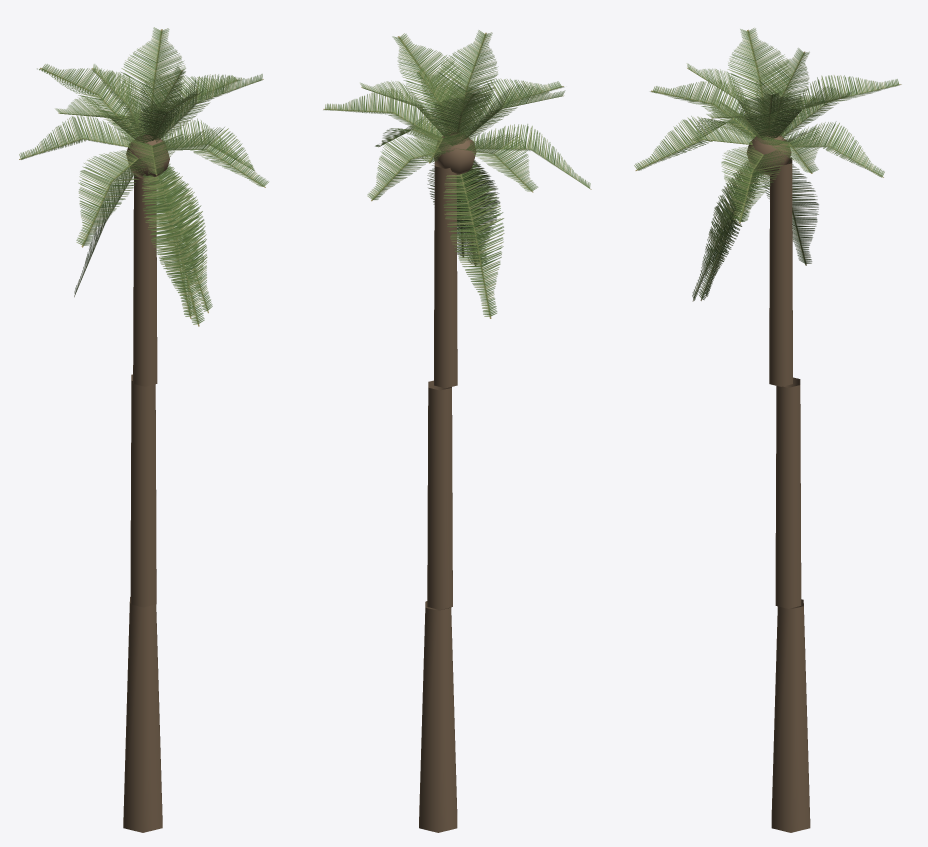
Rendered from wash.glb.
3 views of the same model, side by side, from view 1: azimuth 30°, elevation 25°; view 2: azimuth 150°, elevation 25°; view 3: azimuth 270°, elevation 25° (orthographic).
Visible parts, largest first — view 1: wash; view 2: wash; view 3: wash.
Part boxes in pixels (left/top/right/bottom): wash: left=19, top=27, right=268, bottom=832; wash: left=323, top=30, right=591, bottom=832; wash: left=634, top=28, right=901, bottom=832.
Bounding box in the file's own units: 4.16 × 12.81 × 4.4.
Materials: 3 (2 with a texture image).
